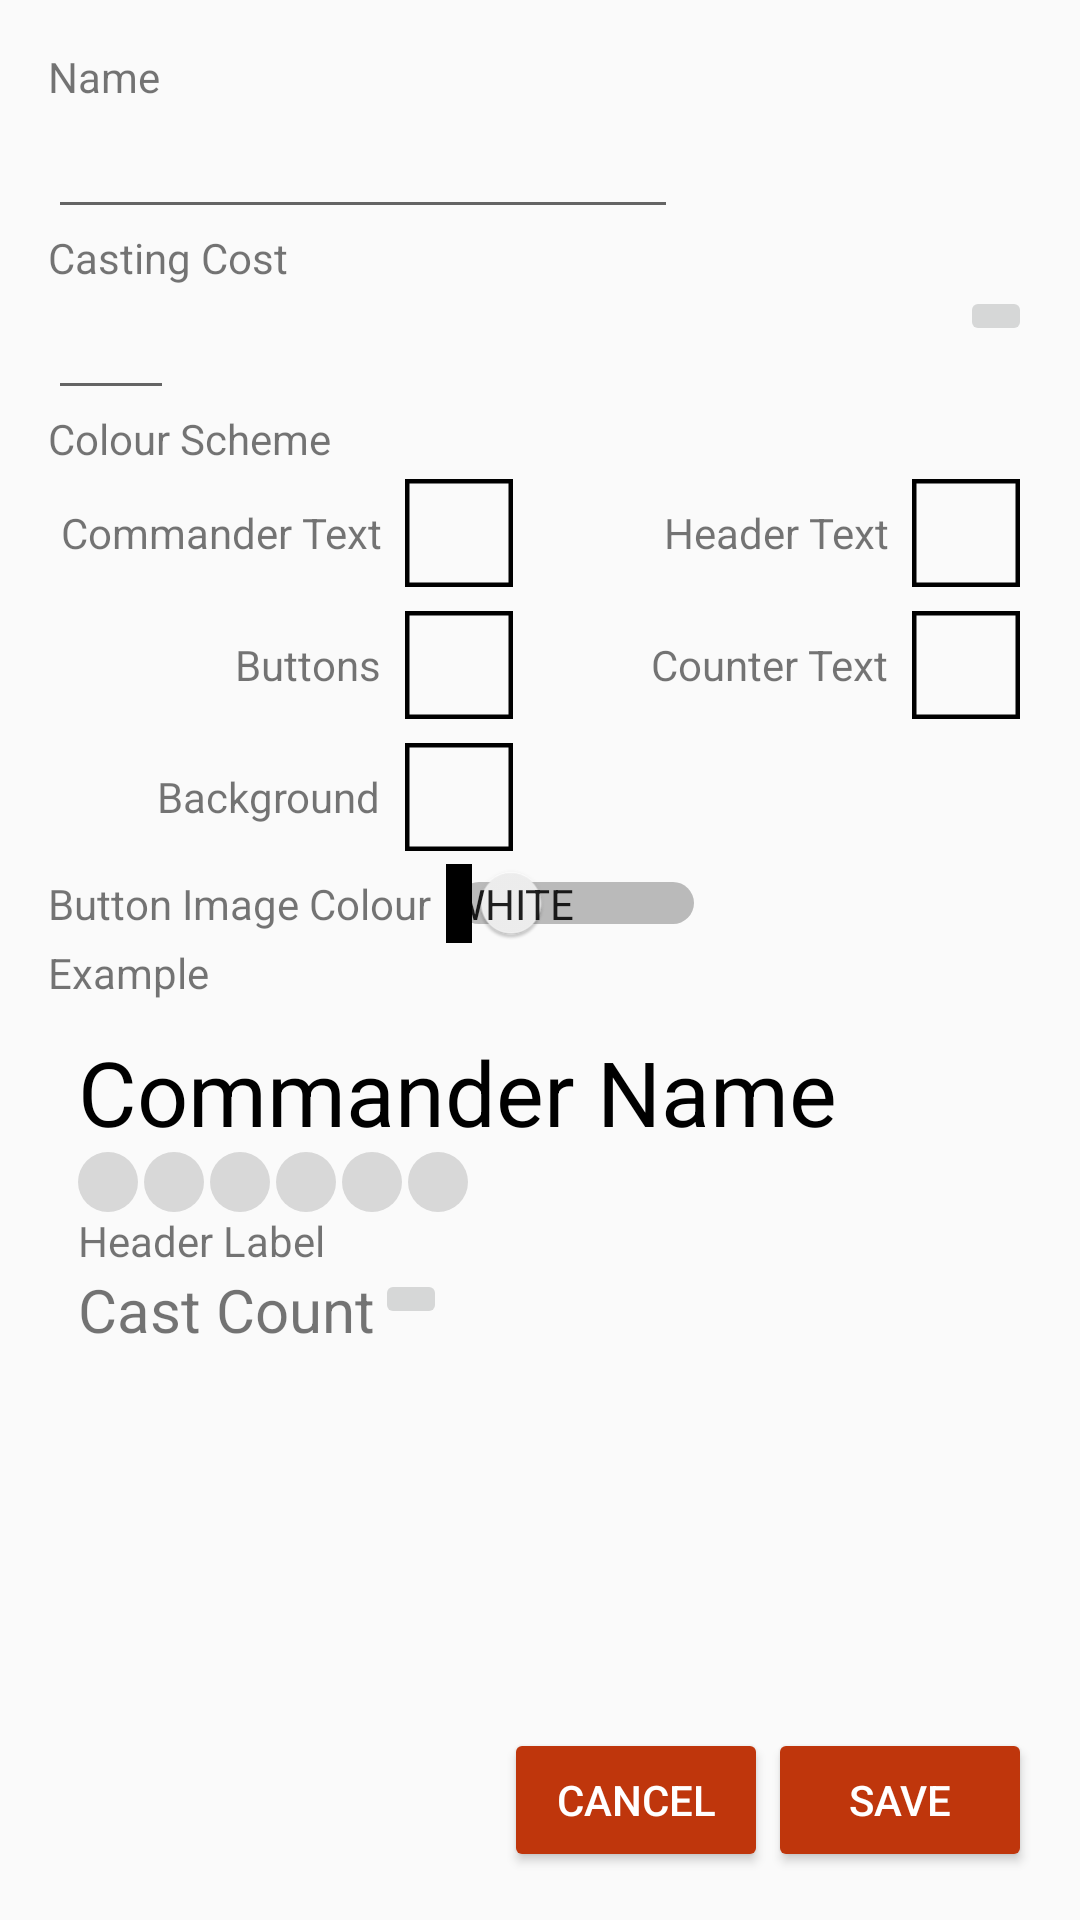

Screen size 1080px×1920px. Icon name, then its box in pixels as [left=x1, top=y1, right=x2, bottom=y2]:
square: [left=405, top=479, right=513, bottom=587], [left=912, top=479, right=1020, bottom=587], [left=405, top=611, right=513, bottom=719], [left=912, top=611, right=1020, bottom=719], [left=405, top=743, right=513, bottom=851]
